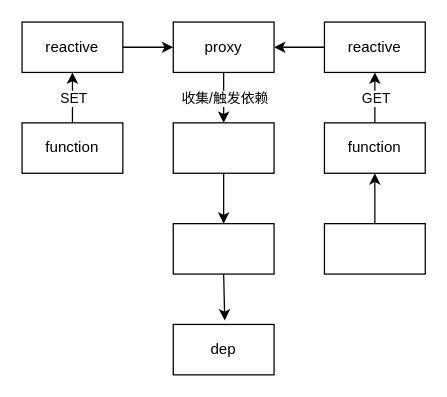
Image size: 447x397. Some labels were removed from this diagram. Here are the shapes that lost their labels. From the top down, the centre of each, then its label:
the point at 223,147: targetMap (object)
the point at 223,248: depsMap (key)
the point at 374,248: effect
